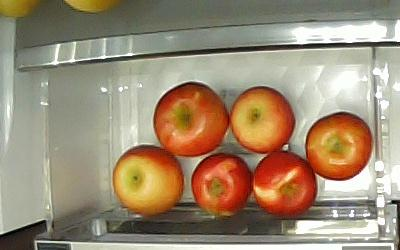apple: (152, 80, 229, 157), (111, 143, 185, 215), (303, 110, 373, 181), (229, 84, 296, 153), (251, 150, 318, 218), (190, 151, 252, 215)
